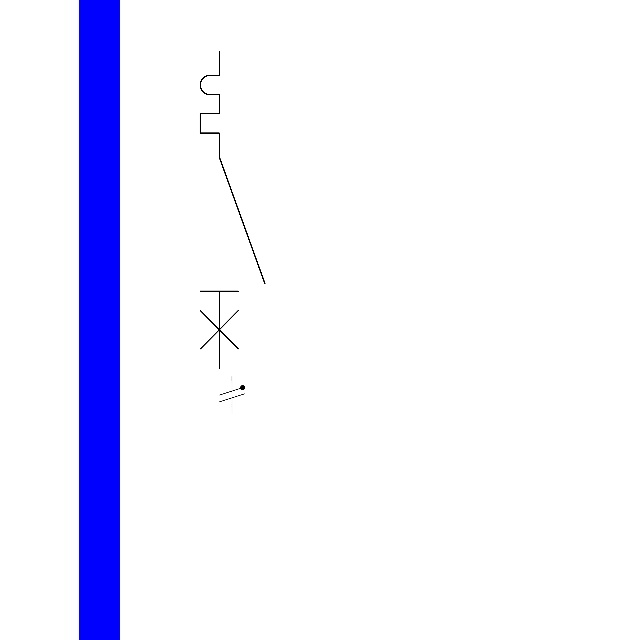interruptor_termomagnetico: (192, 43, 273, 377)
